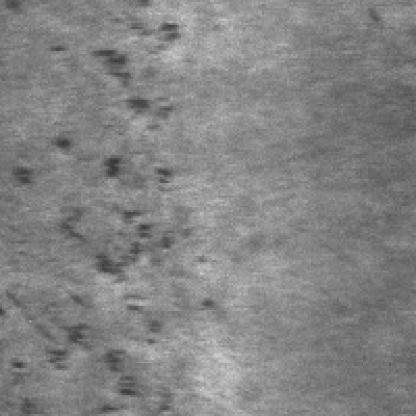rolled-in_scale: (71, 8, 191, 322), (6, 296, 174, 416)
